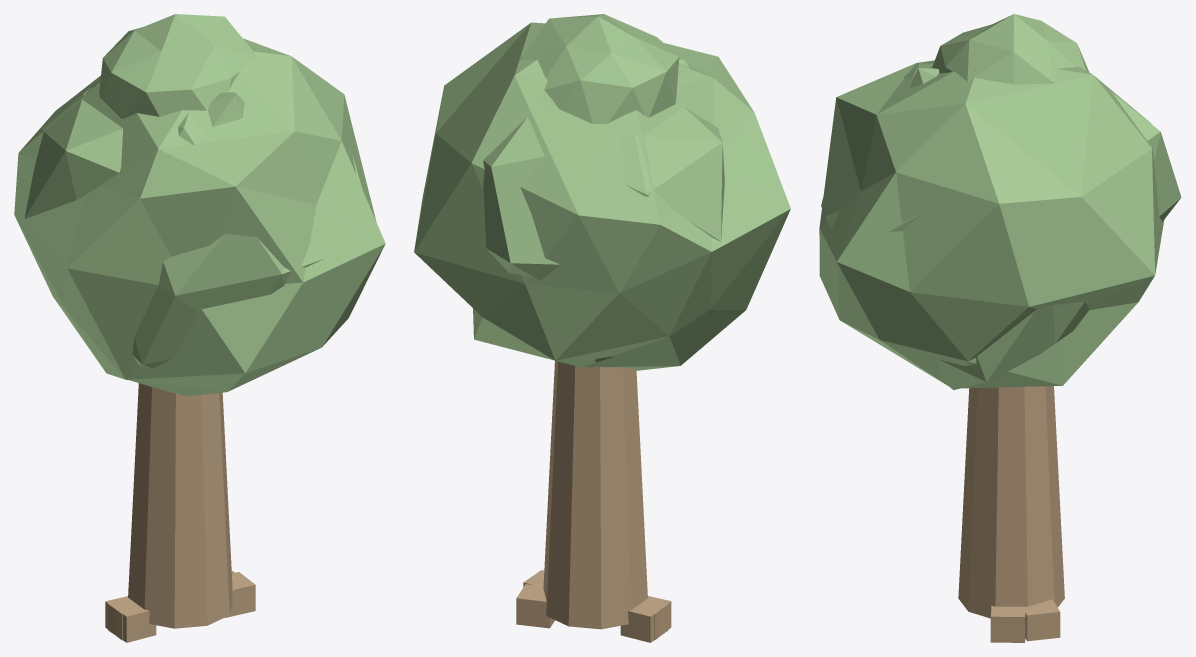
File: chibi_tree_green_b.glb
3 views of the same model, side by side, from view 1: azimuth 30°, elevation 25°; view 2: azimuth 150°, elevation 25°; view 3: azimuth 270°, elevation 25° (orthographic).
Visible parts, largest first — view 1: ChibiTree_green_11; view 2: ChibiTree_green_11; view 3: ChibiTree_green_11.
Part boxes in pixels (<box>): ChibiTree_green_11: <box>14,14,385,642</box>; ChibiTree_green_11: <box>414,14,790,642</box>; ChibiTree_green_11: <box>819,14,1181,642</box>.
Size of the model in its own units: 1.9 by 3.45 by 1.9.
